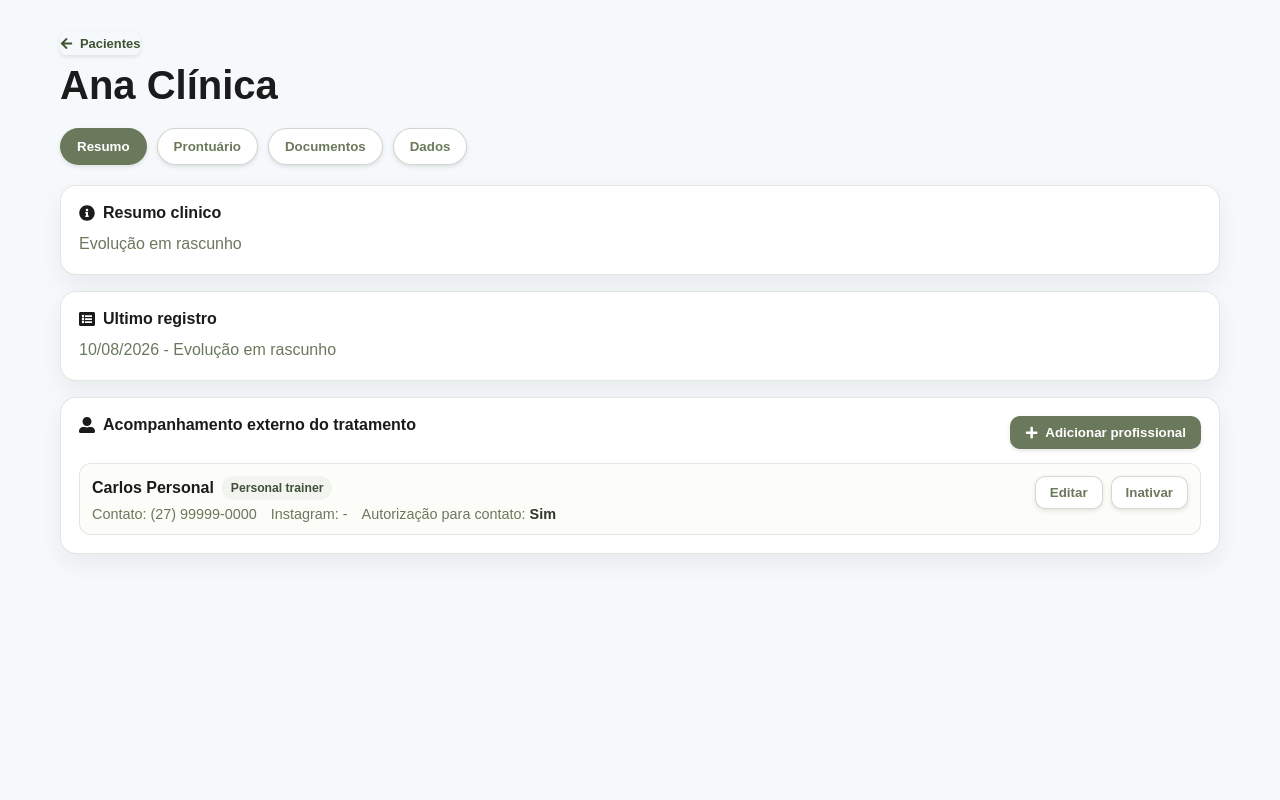
Scenario: PatientDetails clinical write controls permission matrix › eligible finalizer exposes the dedicated lifecycle action from active to resolved
Expected: the heading "Ana Clínica" is shown, 60,63 -> 278,108
Click the button "Prontuário" at (207, 146), box 157,128 -> 258,165
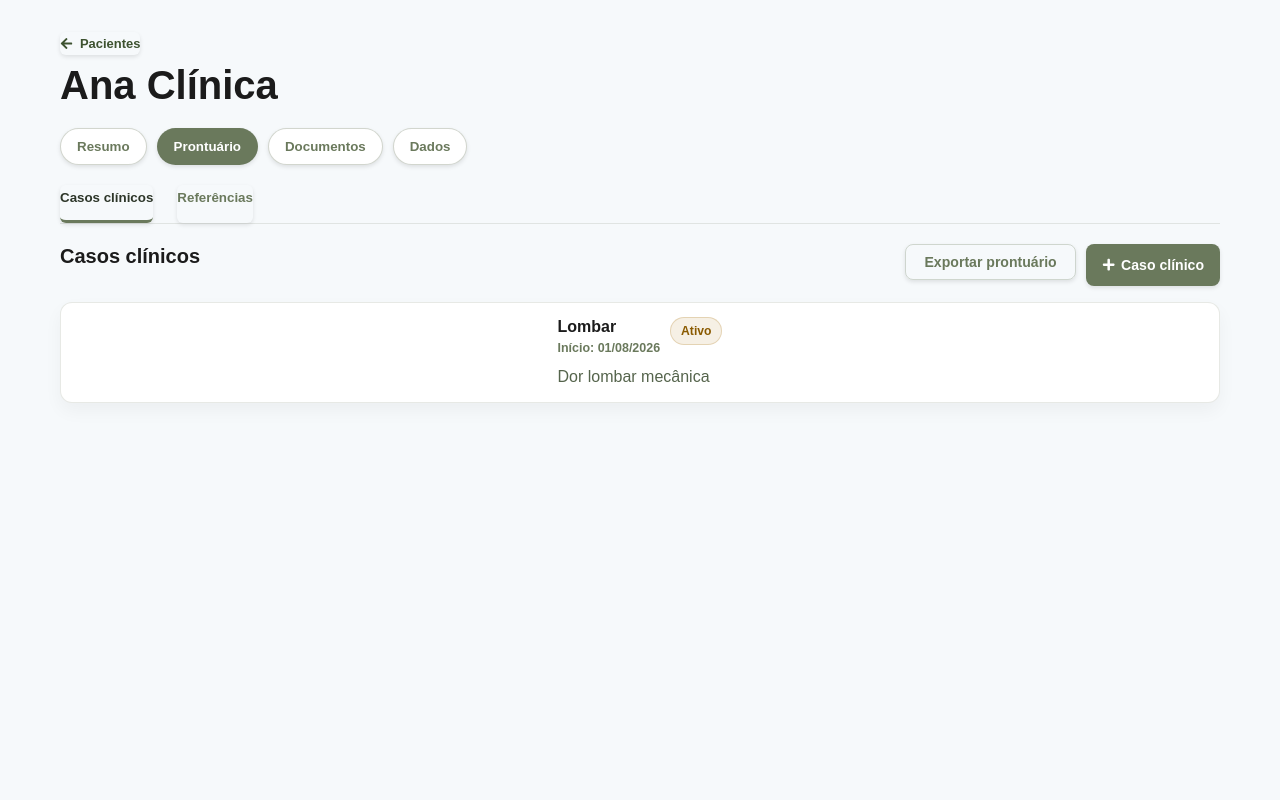
Click the button "Lombar Início: 01/08/2026 Ativo Dor lombar mecânica" at (640, 353), box 60,302 -> 1220,403
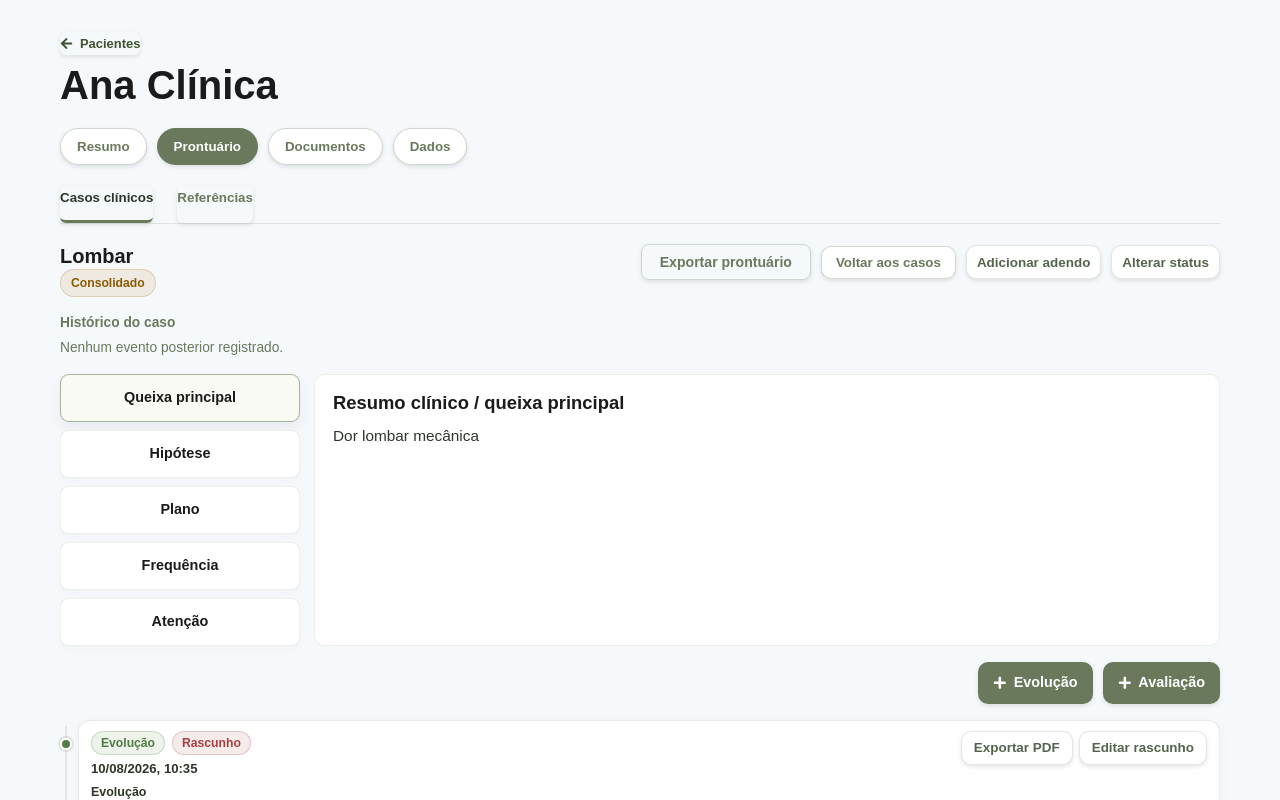
Expected: the text "Dor lombar mecânica" is shown, 333,426 -> 479,444
Click the button "Alterar status" at (1166, 262), box 1111,245 -> 1220,279
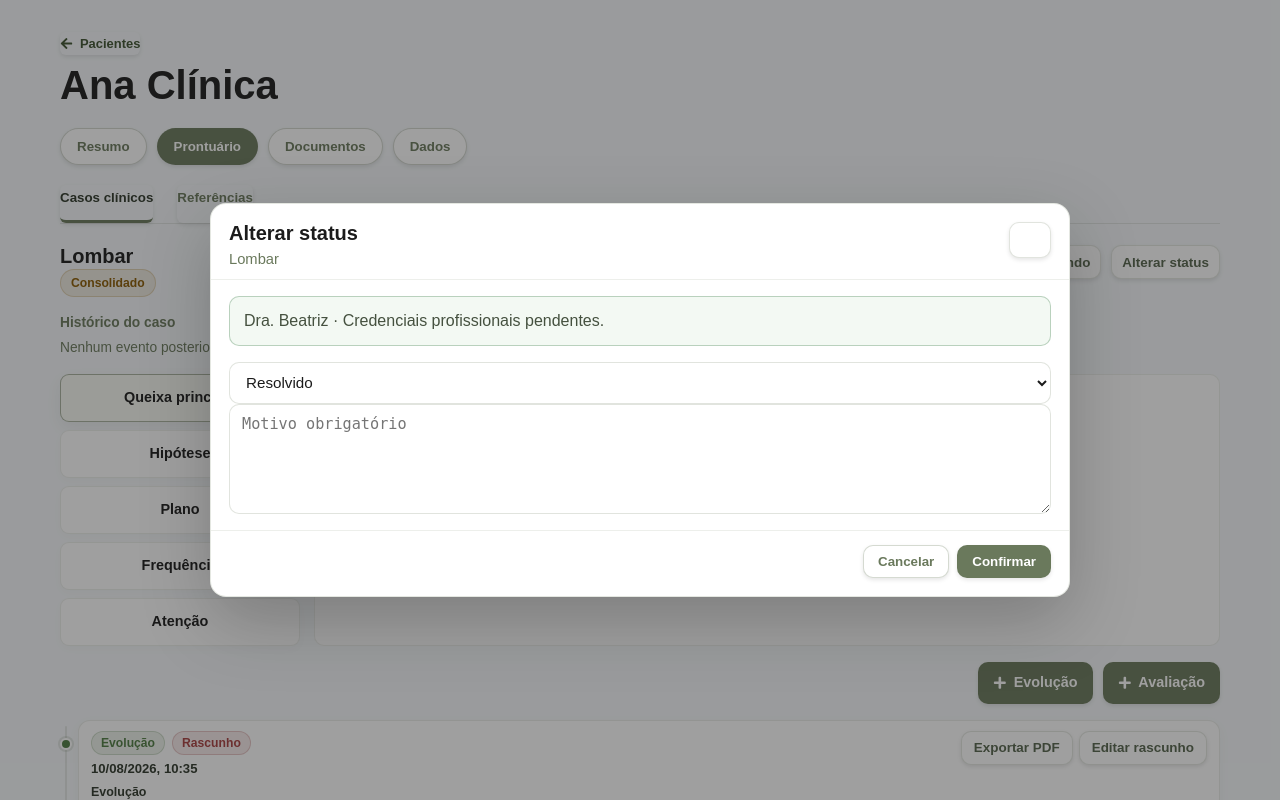
Expected: the dropdown named "Novo status" shows "Resolvido", 229,362 -> 1051,404
